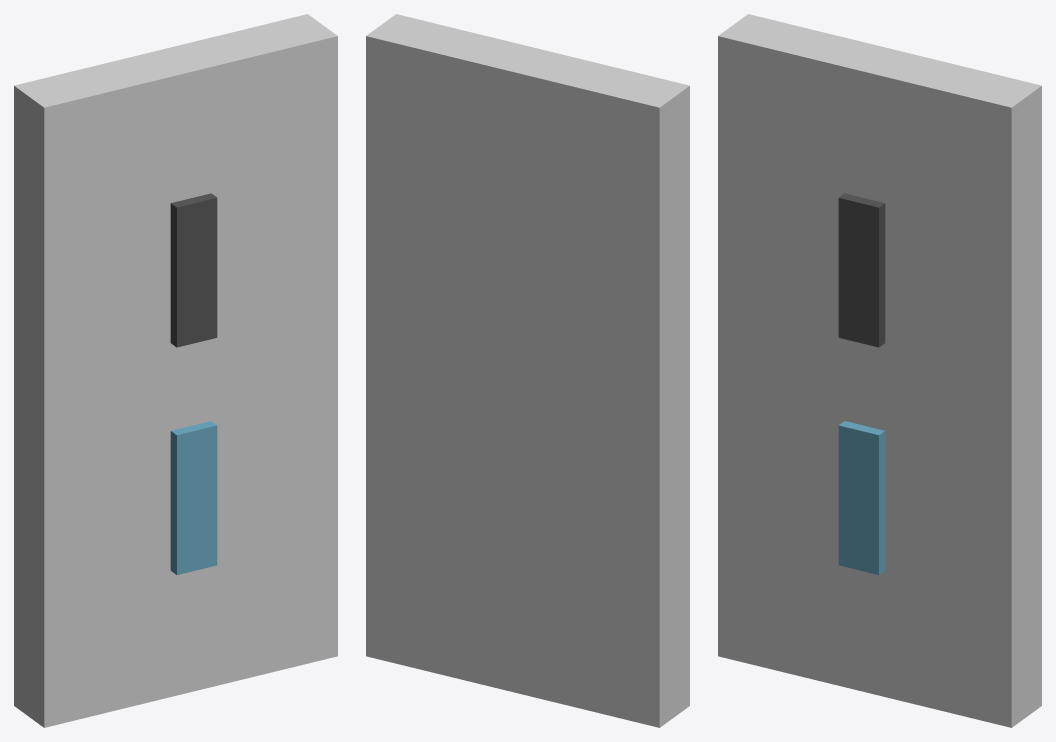
The model's file is Button_To_press.fbx.
3 renders of one model, left to right at view 1: azimuth 30°, elevation 25°; view 2: azimuth 150°, elevation 25°; view 3: azimuth 330°, elevation 25°, orthographic.
Parts seen in each view (by area): view 1: Cube.002; view 2: Cube.002; view 3: Cube.002.
Boxes of the visible parts, x1,y1,x2,y2 form: Cube.002: (14,14,337,727); Cube.002: (366,14,689,727); Cube.002: (718,14,1041,727).
Bounding box in the file's own units: 345 × 695 × 73.74.
